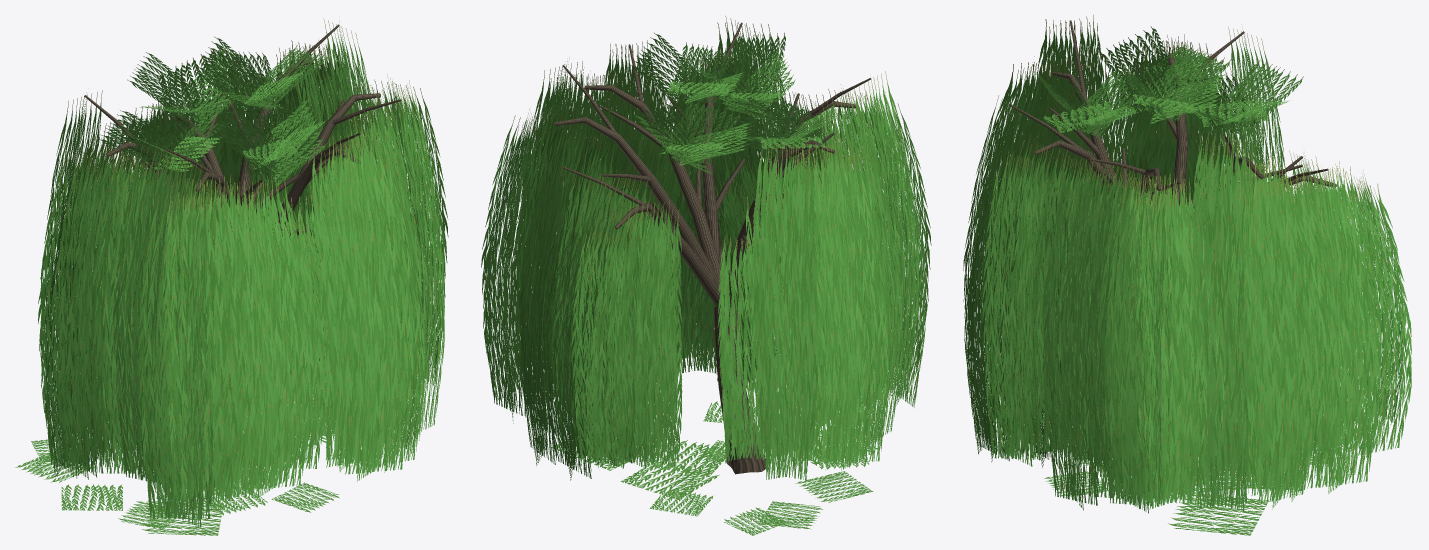
The model's file is weeping_willow.glb.
The picture shows the model from 3 angles, left to right: view 1: azimuth 30°, elevation 25°; view 2: azimuth 150°, elevation 25°; view 3: azimuth 270°, elevation 25°; orthographic projection. The views are drawn at different scales.
Visible parts, largest first — view 1: weeping_willow; view 2: weeping_willow; view 3: weeping_willow.
Boxes of the visible parts, x1,y1,x2,y2 form: weeping_willow: (15, 18, 448, 535); weeping_willow: (481, 16, 931, 535); weeping_willow: (963, 15, 1411, 535).
Size of the model in its own units: 8.77 by 8.72 by 8.54.
2 materials, 2 textured.
